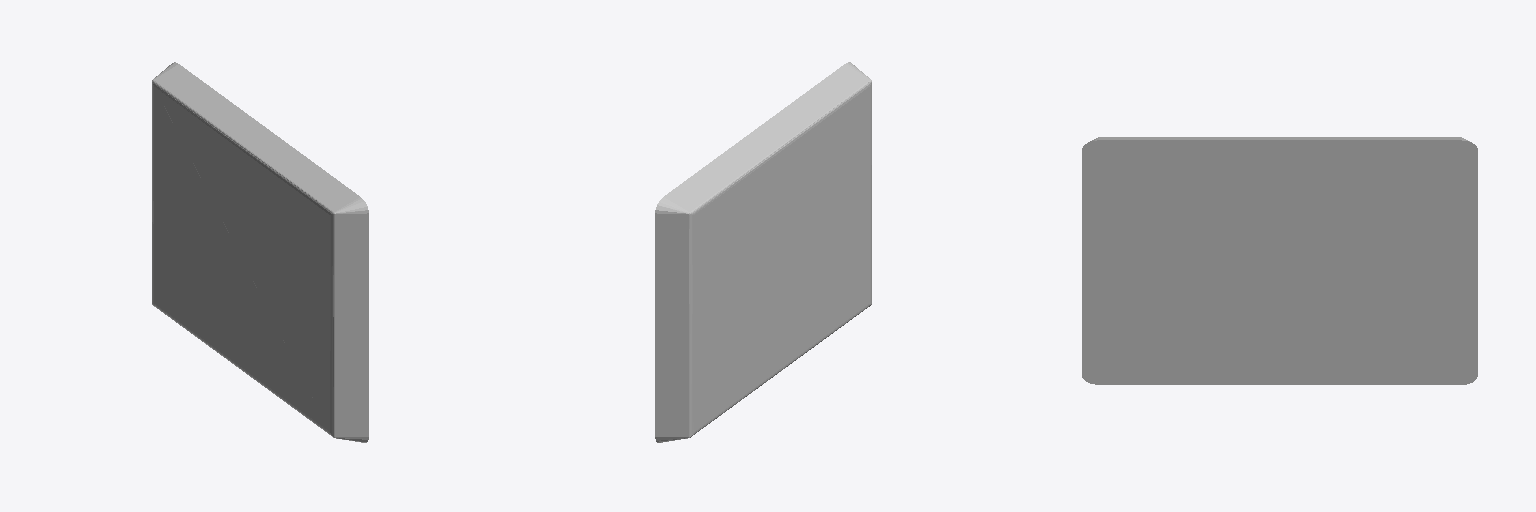
Rendered from tinker.obj.
The picture shows the model from 3 angles: view 1: azimuth 30°, elevation 25°; view 2: azimuth 150°, elevation 25°; view 3: azimuth 270°, elevation 25°; orthographic projection.
Visible parts, largest first — view 1: obj_0.020; view 2: obj_0.020; view 3: obj_0.020.
Boxes of the visible parts, x1=… form: obj_0.020: x1=152, y1=62, x2=368, y2=442; obj_0.020: x1=655, y1=62, x2=871, y2=442; obj_0.020: x1=1082, y1=137, x2=1477, y2=384.
Bounding box in the file's own units: 1 × 8.5 × 12.5.